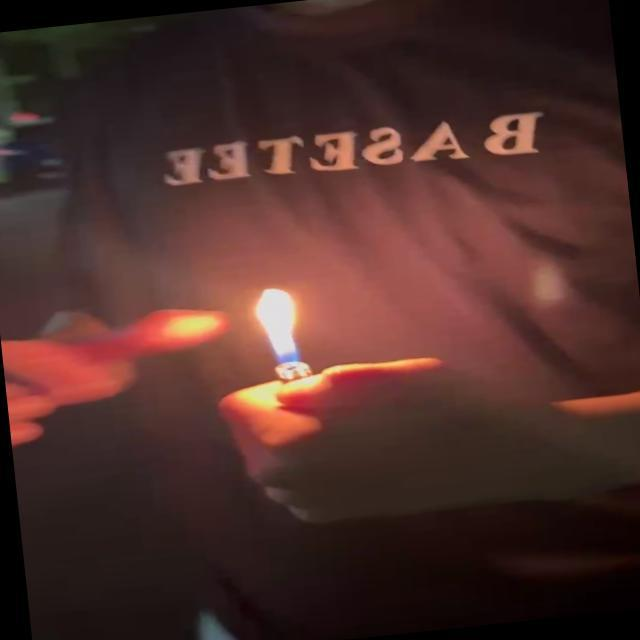Fire: (249, 282, 312, 367)
